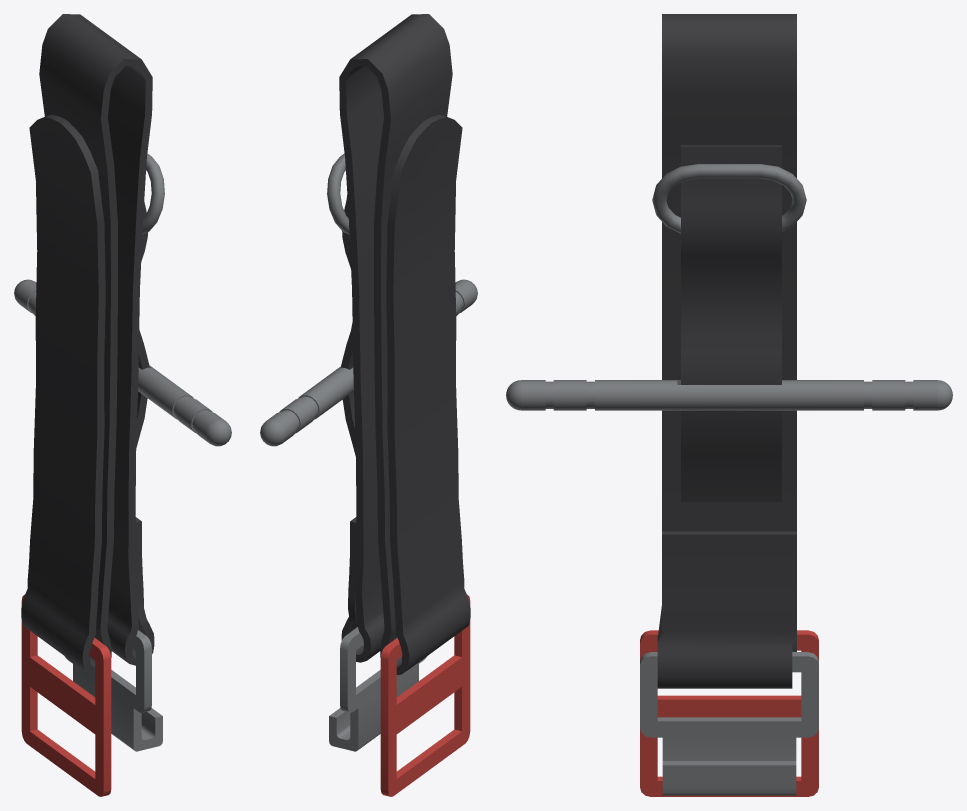
The model's file is item_tourniquet.glb.
The picture shows the model from 3 angles, left to right: view 1: azimuth 30°, elevation 25°; view 2: azimuth 150°, elevation 25°; view 3: azimuth 270°, elevation 25°; orthographic projection. The views are drawn at different scales.
Parts seen in each view (by area): view 1: Plane.001, Plane.003, Plane.004, Cylinder, Circle, Plane.002; view 2: Plane.001, Plane.003, Plane.004, Cylinder, Plane.002, Circle; view 3: Plane.001, Plane.002, Plane.004, Cylinder, Plane.003, Circle.
Part boxes in pixels (bbox=[...]): Plane.001: bbox=[21, 14, 154, 674]; Plane.003: bbox=[21, 594, 111, 796]; Plane.004: bbox=[65, 630, 162, 751]; Cylinder: bbox=[14, 279, 231, 446]; Circle: bbox=[142, 153, 164, 234]; Plane.002: bbox=[136, 202, 149, 447]; Plane.001: bbox=[339, 14, 470, 674]; Plane.003: bbox=[380, 594, 470, 796]; Plane.004: bbox=[329, 627, 426, 751]; Cylinder: bbox=[260, 279, 477, 446]; Plane.002: bbox=[341, 195, 355, 456]; Circle: bbox=[327, 153, 349, 234]; Plane.001: bbox=[657, 14, 796, 688]; Plane.002: bbox=[681, 145, 781, 501]; Plane.004: bbox=[640, 652, 818, 795]; Cylinder: bbox=[506, 380, 952, 410]; Plane.003: bbox=[640, 630, 818, 796]; Circle: bbox=[652, 164, 806, 233].
Size of the model in its own units: 0.0245 by 0.1959 by 0.0997.
